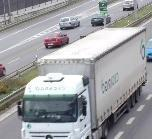Car: (43, 31, 69, 49), (59, 15, 81, 30), (122, 0, 138, 12), (91, 17, 104, 27)
Truck: (18, 27, 147, 139)
